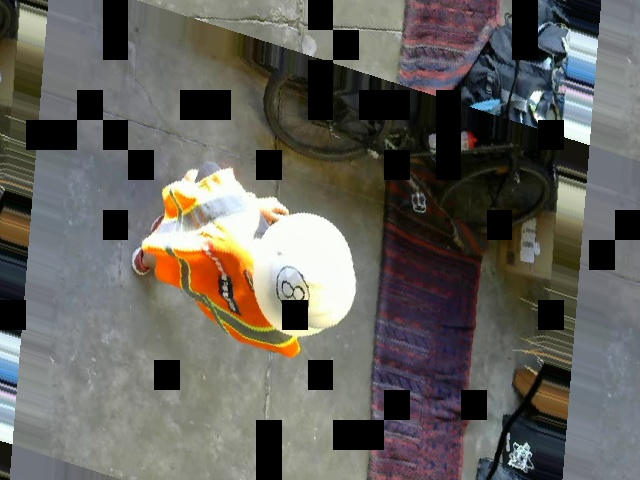eight: (272, 261, 310, 318)
